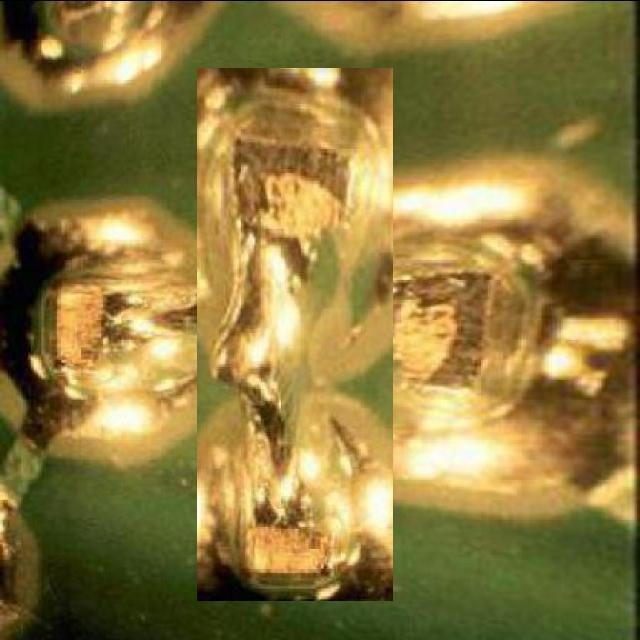Short_circuit: (113, 152, 478, 517)
